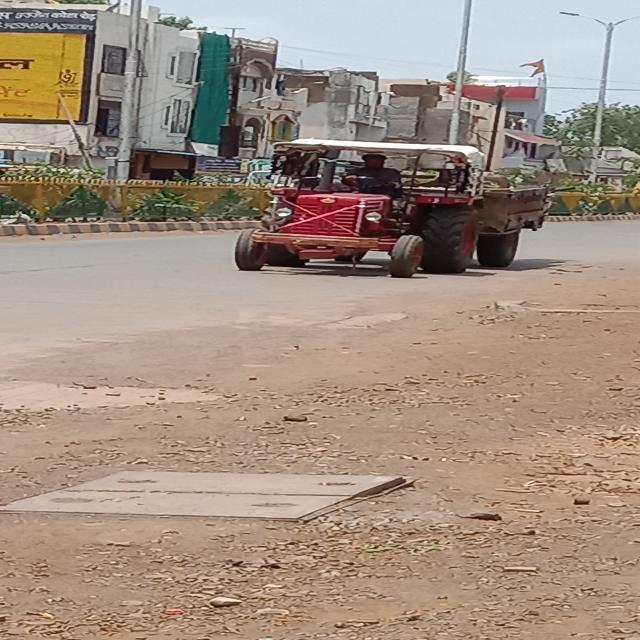tractor: (232, 133, 579, 277)
